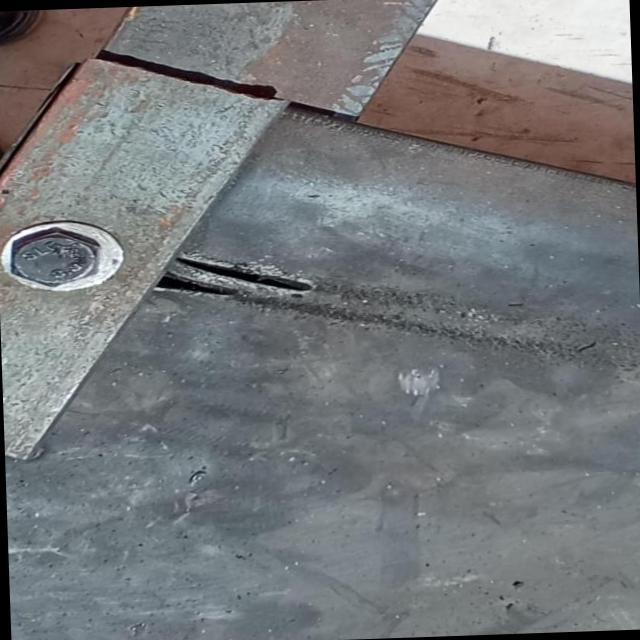Puncture: (510, 577, 526, 591), (504, 600, 516, 612), (498, 592, 506, 602)
Tear: (172, 252, 318, 299), (152, 272, 242, 304), (571, 335, 606, 359), (184, 466, 214, 488)
